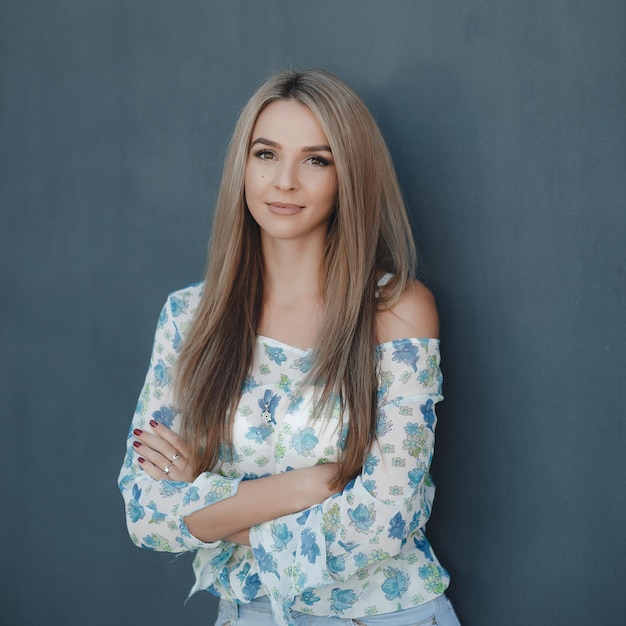teen: (203, 61, 399, 308)
